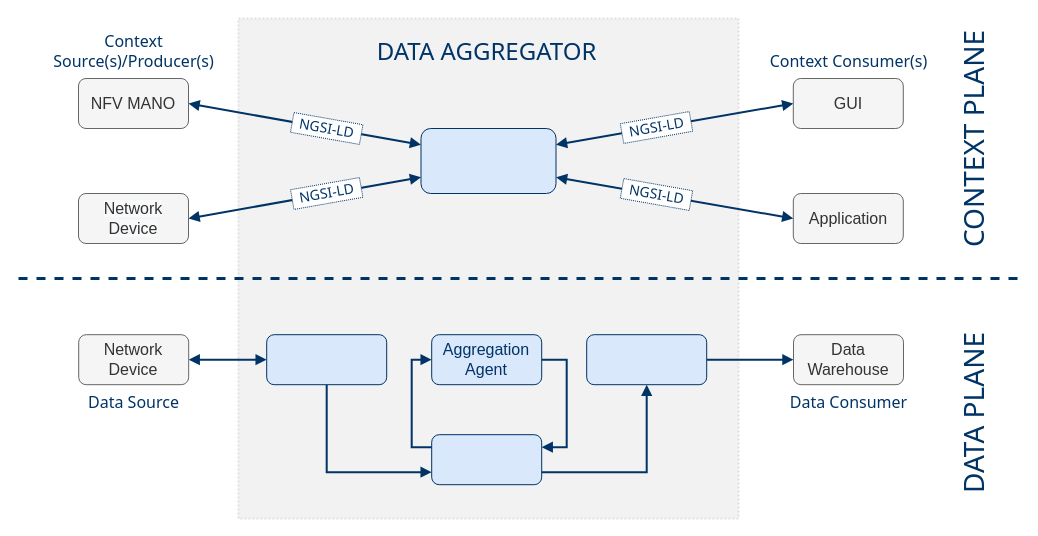
The diagram is 1038 pixels wide and 536 high, and some of its shapes have lost their labels. Each missing label, with the box of its shape:
Collection Agent: (266, 334, 387, 385)
Data Substrate: (431, 434, 542, 485)
Dispatch Agent: (586, 334, 707, 385)
NGSI-LD Context Broker: (420, 128, 556, 194)
